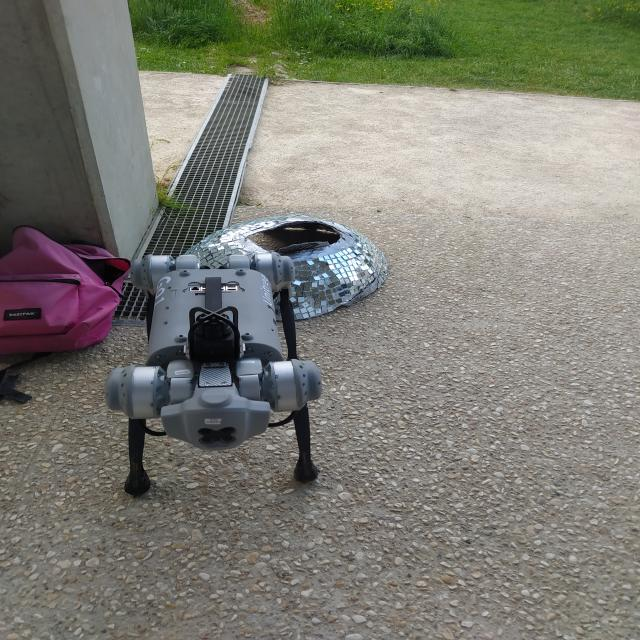unitree-go1-robot: (95, 246, 352, 514)
